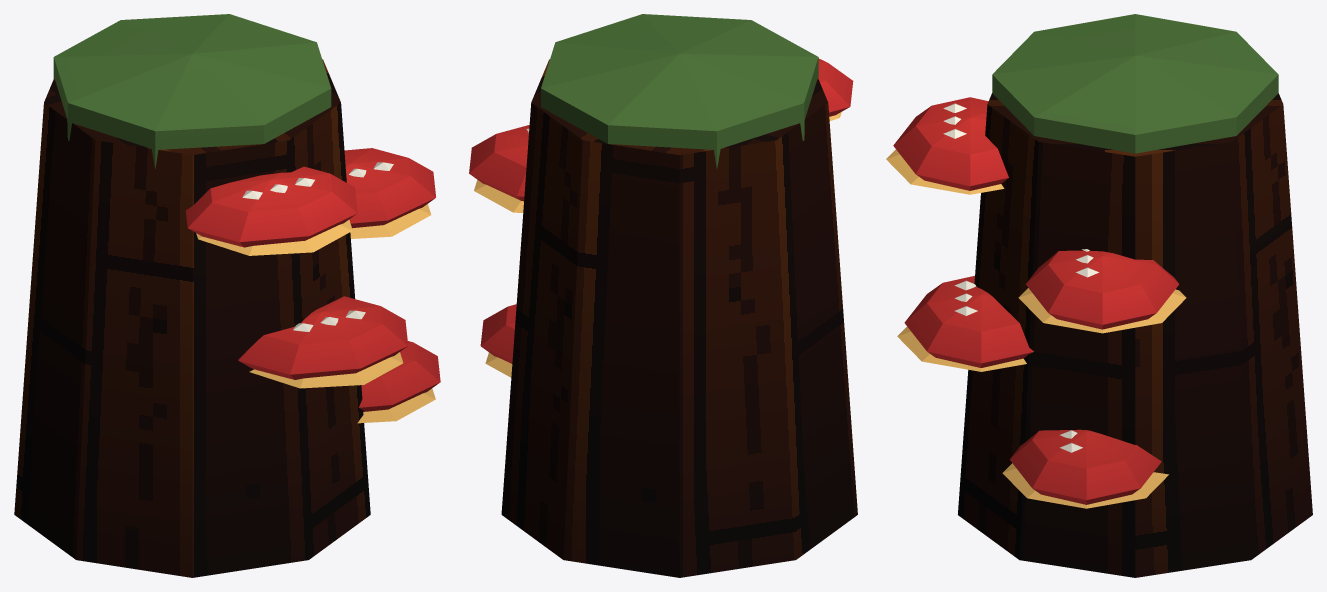
Rendered from toadstool_shelf.glb.
3 renders of one model, left to right at view 1: azimuth 30°, elevation 25°; view 2: azimuth 150°, elevation 25°; view 3: azimuth 270°, elevation 25°, orthographic.
Parts seen in each view (by area): view 1: toadstool_shelf; view 2: toadstool_shelf; view 3: toadstool_shelf.
Part boxes in pixels (box(x1,y1,x2,y2)): toadstool_shelf: box(14, 14, 440, 577); toadstool_shelf: box(469, 14, 857, 577); toadstool_shelf: box(886, 14, 1312, 577).
Bounding box in the file's own units: 1.42 × 1.64 × 1.42.
3 materials, 1 textured.
